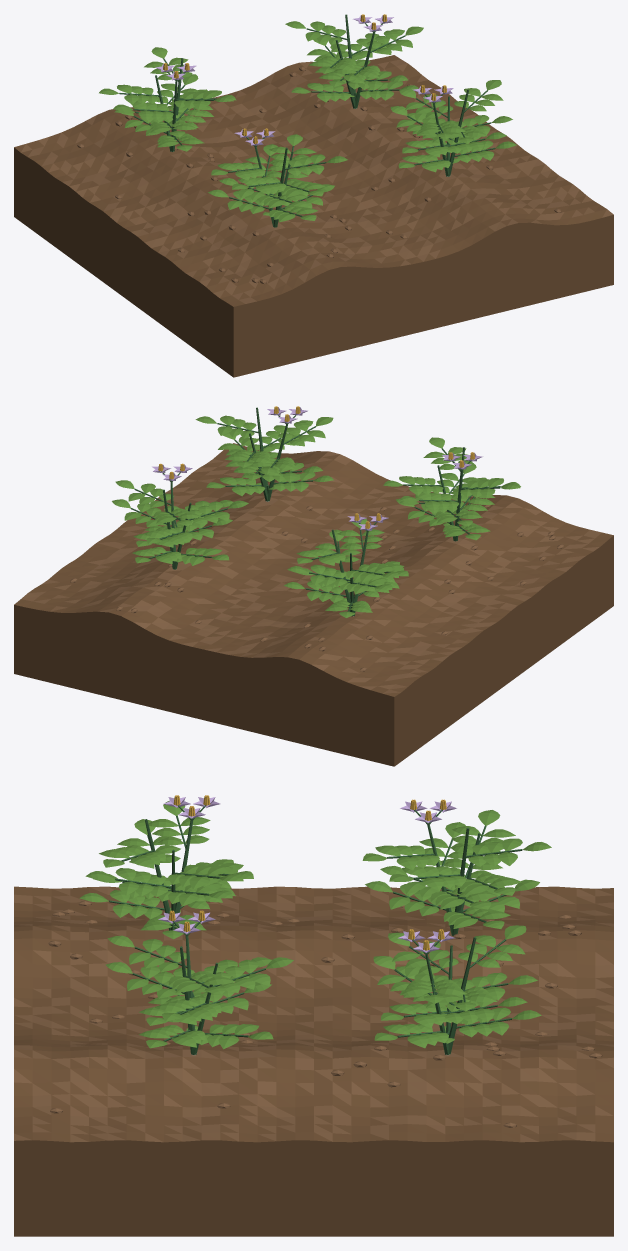
File: potato-field.glb
3 views of the same model, one above another, from view 1: azimuth 30°, elevation 25°; view 2: azimuth 150°, elevation 25°; view 3: azimuth 270°, elevation 25° (orthographic). The views are drawn at different scales.
Parts seen in each view (by area): view 1: FrontSoilCover_mesh, BackSoil_mesh, PotatoCompoundLeaf.043_mesh, PotatoCompoundLeaf.023_mesh, PotatoCompoundLeaf.047_mesh, PotatoCompoundLeaf.011_mesh, PotatoCompoundLeaf.015_mesh, PotatoCompoundLeaf.027_mesh, PotatoCompoundLeaf.036_mesh, PotatoCompoundLeaf.030_mesh, PotatoCompoundLeaf.031_mesh, PotatoCompoundLeaf.003_mesh (+17 smaller); view 2: BackSoil_mesh, FrontSoilCover_mesh, PotatoCompoundLeaf.019_mesh, PotatoCompoundLeaf.043_mesh, PotatoCompoundLeaf.023_mesh, PotatoCompoundLeaf.026_mesh, PotatoCompoundLeaf.039_mesh, PotatoCompoundLeaf.031_mesh, PotatoCompoundLeaf.007_mesh, PotatoCompoundLeaf.003_mesh, PotatoCompoundLeaf.032_mesh, PotatoCompoundLeaf.046_mesh (+17 smaller); view 3: FrontSoilCover_mesh, BackSoil_mesh, PotatoCompoundLeaf.047_mesh, PotatoCompoundLeaf.019_mesh, PotatoCompoundLeaf.002_mesh, PotatoCompoundLeaf.035_mesh, PotatoCompoundLeaf.007_mesh, PotatoCompoundLeaf.015_mesh, PotatoCompoundLeaf.008_mesh, PotatoCompoundLeaf.022_mesh, PotatoCompoundLeaf.039_mesh, PotatoCompoundLeaf.031_mesh (+27 smaller).
Boxes of the visible parts, left/top/right/bottom form: FrontSoilCover_mesh: left=123, top=136, right=613, bottom=377; BackSoil_mesh: left=14, top=55, right=501, bottom=296; PotatoCompoundLeaf.043_mesh: left=366, top=26, right=423, bottom=54; PotatoCompoundLeaf.023_mesh: left=454, top=80, right=503, bottom=112; PotatoCompoundLeaf.047_mesh: left=285, top=21, right=347, bottom=44; PotatoCompoundLeaf.011_mesh: left=284, top=154, right=347, bottom=175; PotatoCompoundLeaf.015_mesh: left=399, top=88, right=453, bottom=118; PotatoCompoundLeaf.027_mesh: left=99, top=84, right=159, bottom=104; PotatoCompoundLeaf.036_mesh: left=291, top=83, right=351, bottom=102; PotatoCompoundLeaf.030_mesh: left=113, top=101, right=173, bottom=120; PotatoCompoundLeaf.031_mesh: left=174, top=91, right=233, bottom=110; PotatoCompoundLeaf.003_mesh: left=269, top=134, right=316, bottom=166; BackSoil_mesh: left=14, top=523, right=504, bottom=766; FrontSoilCover_mesh: left=124, top=443, right=613, bottom=685; PotatoCompoundLeaf.019_mesh: left=278, top=417, right=333, bottom=446; PotatoCompoundLeaf.043_mesh: left=115, top=480, right=173, bottom=507; PotatoCompoundLeaf.023_mesh: left=195, top=415, right=258, bottom=438; PotatoCompoundLeaf.026_mesh: left=287, top=564, right=350, bottom=586; PotatoCompoundLeaf.039_mesh: left=188, top=500, right=248, bottom=525; PotatoCompoundLeaf.031_mesh: left=337, top=519, right=384, bottom=551; PotatoCompoundLeaf.007_mesh: left=460, top=479, right=520, bottom=498; PotatoCompoundLeaf.003_mesh: left=383, top=476, right=443, bottom=495; PotatoCompoundLeaf.032_mesh: left=284, top=581, right=346, bottom=602; PotatoCompoundLeaf.046_mesh: left=112, top=499, right=166, bottom=527; FrontSoilCover_mesh: left=14, top=886, right=313, bottom=1236; BackSoil_mesh: left=314, top=886, right=613, bottom=1236; PotatoCompoundLeaf.047_mesh: left=458, top=925, right=526, bottom=968; PotatoCompoundLeaf.019_mesh: left=107, top=935, right=187, bottom=972; PotatoCompoundLeaf.002_mesh: left=85, top=868, right=171, bottom=897; PotatoCompoundLeaf.035_mesh: left=465, top=838, right=551, bottom=866; PotatoCompoundLeaf.007_mesh: left=148, top=800, right=210, bottom=848; PotatoCompoundLeaf.015_mesh: left=213, top=957, right=293, bottom=992; PotatoCompoundLeaf.008_mesh: left=79, top=890, right=164, bottom=919; PotatoCompoundLeaf.022_mesh: left=105, top=962, right=184, bottom=998; PotatoCompoundLeaf.039_mesh: left=388, top=932, right=458, bottom=974; PotatoCompoundLeaf.031_mesh: left=362, top=845, right=439, bottom=870.
Bounding box in the file's own units: 3.5 × 1.57 × 3.5.
